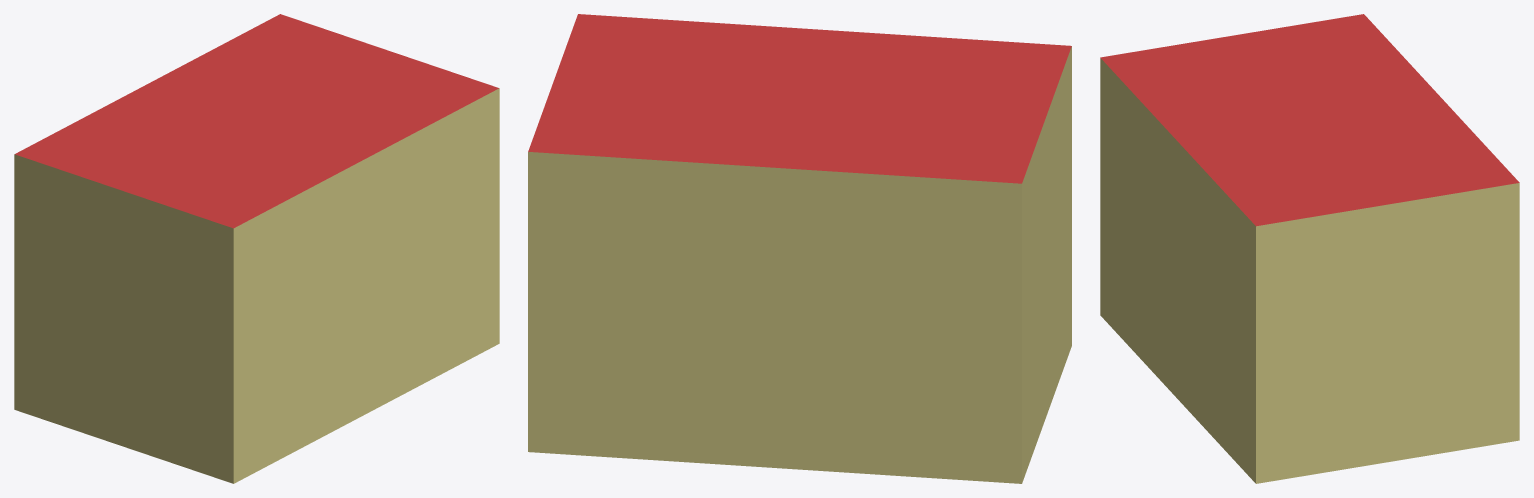
3 renders of one model, left to right at view 1: azimuth 30°, elevation 25°; view 2: azimuth 150°, elevation 25°; view 3: azimuth 270°, elevation 25°, orthographic. The views are drawn at different scales.
Size of the model in its own units: 9.06 by 7.57 by 5.13.
